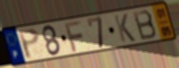7: (86, 15, 105, 50)
8: (42, 24, 62, 57)
B: (131, 9, 159, 42)
F: (63, 19, 84, 53)
K: (112, 13, 137, 44)
P: (17, 27, 41, 61)
